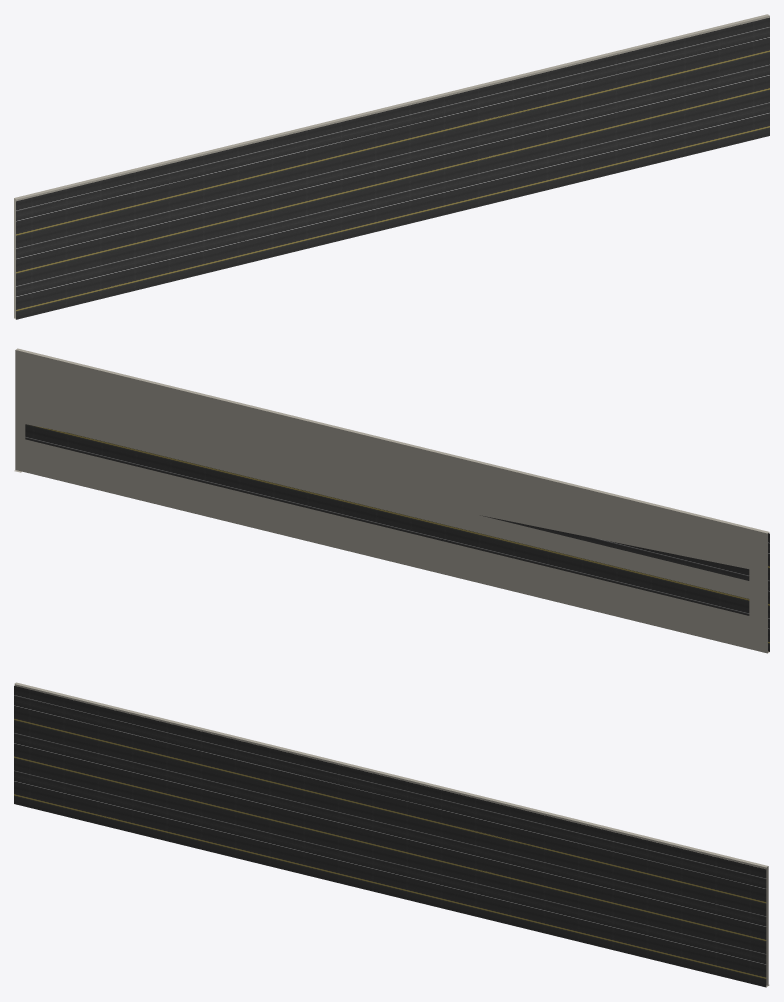
Rendered from deck_01.obj.
3 renders of one model, top to bottom at view 1: azimuth 30°, elevation 25°; view 2: azimuth 150°, elevation 25°; view 3: azimuth 330°, elevation 25°, orthographic.
Visible parts, largest first — view 1: _12, _8; view 2: _8, _12; view 3: _12, _8.
Boxes of the visible parts, <box> form: _12: <box>16,17,769,319</box>; _8: <box>14,14,769,319</box>; _8: <box>14,348,769,653</box>; _12: <box>25,424,769,651</box>; _12: <box>14,686,766,987</box>; _8: <box>14,682,769,987</box>.
Size of the model in its own units: 35.97 by 5.48 by 0.3077.
